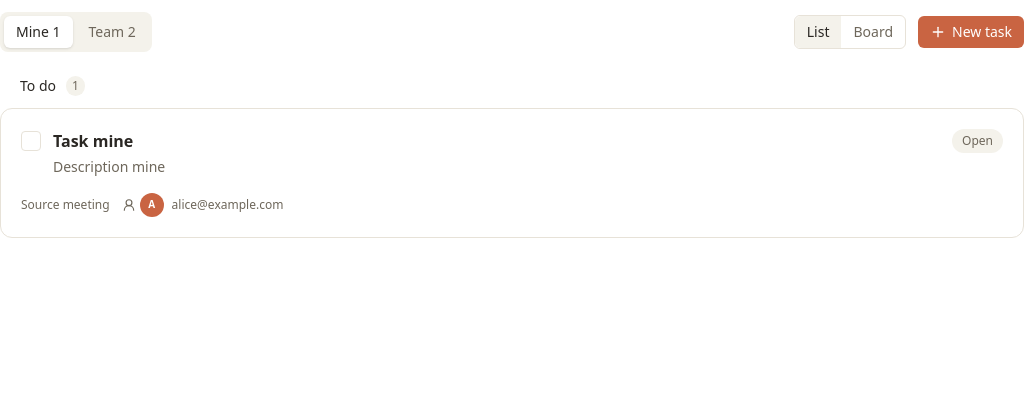
TasksSurface scope › shows the whole team's work under Team
What coordinates should you click on to do the following:
click the tab "Team 2"
I would click on:
 (112, 32)
Its box is [76,16,148,48].
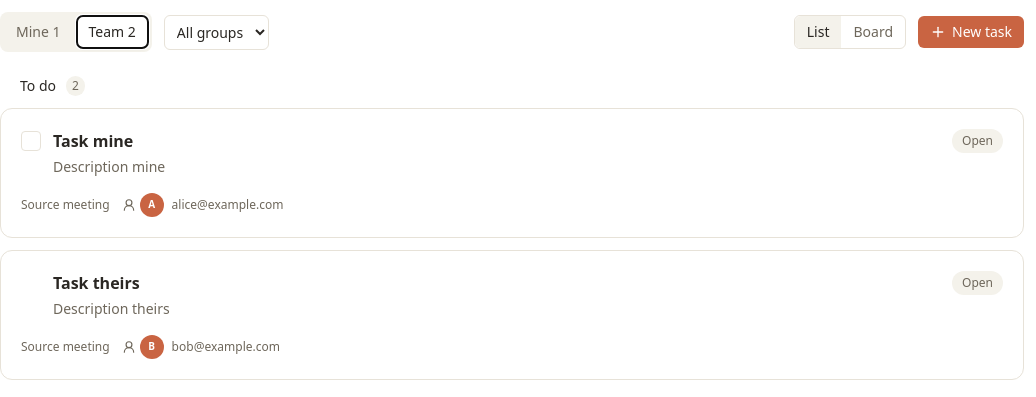
expect the link "Task mine" is shown: met, box [53,130,133,152]
expect the link "Task theirs" is shown: met, box [53,272,140,294]
